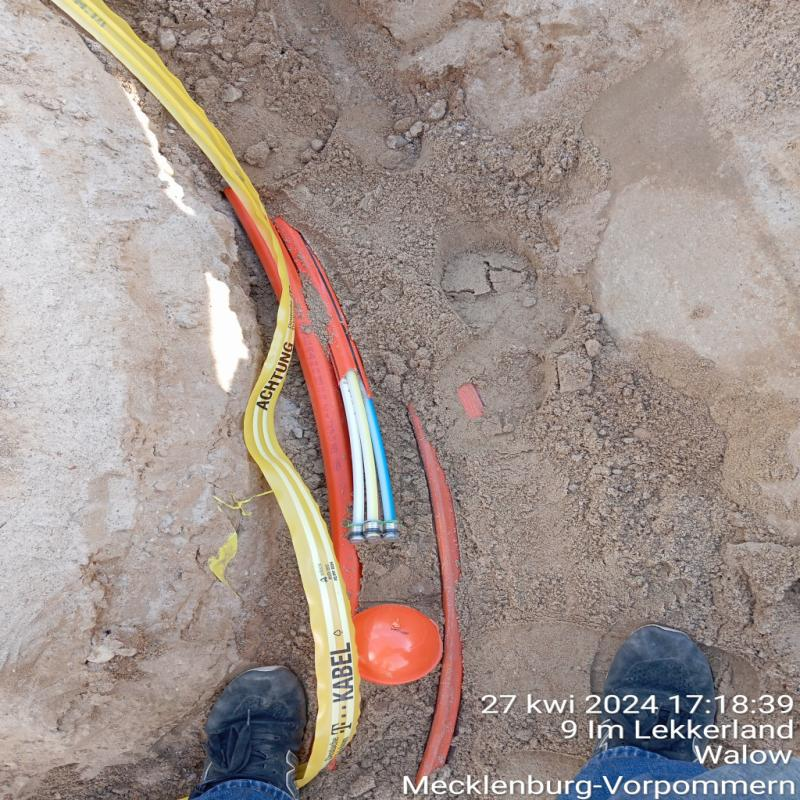Kugelmarker: (351, 605, 441, 685)
Orang-Speednetrohrchen: (227, 192, 403, 611), (409, 411, 462, 770)
